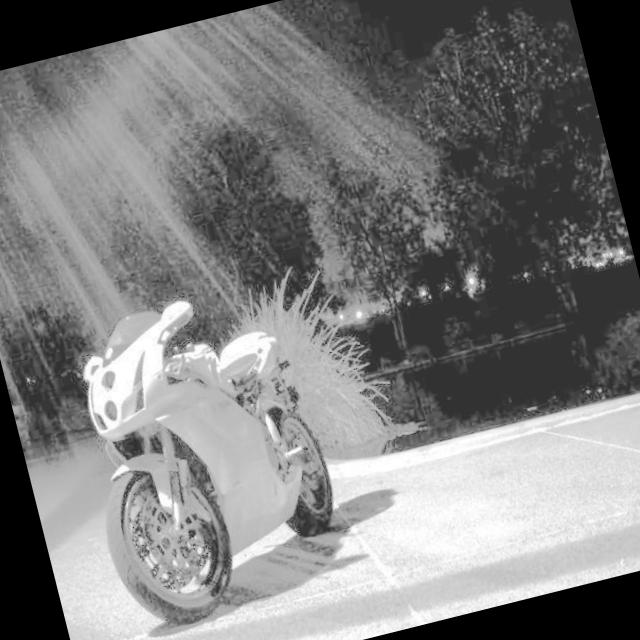Motorcycle: (15, 251, 381, 640)
